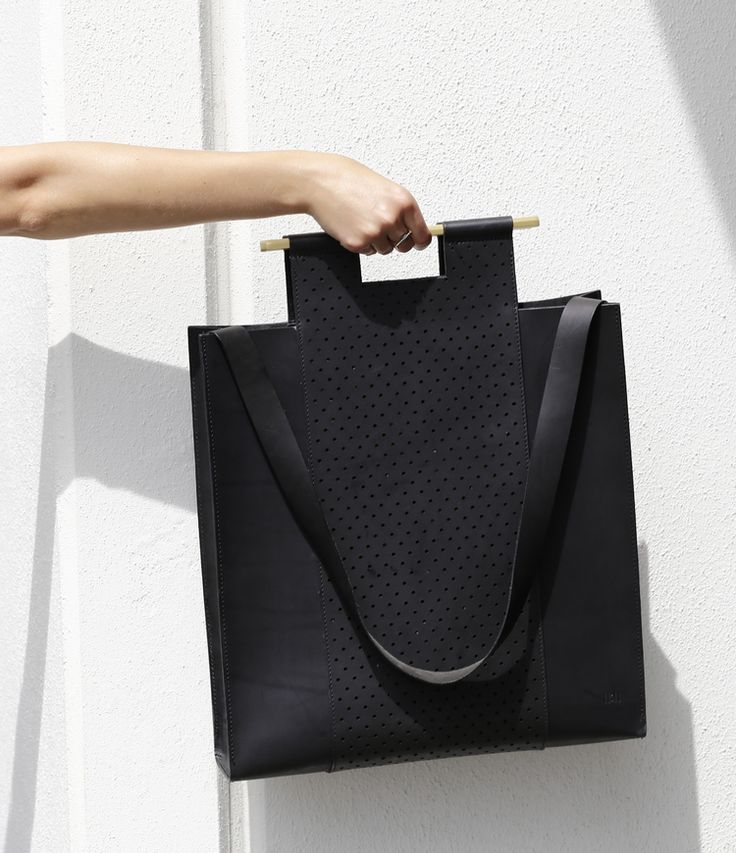cuero: (188, 217, 647, 783)
